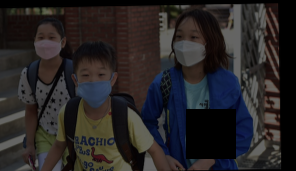with_mask: (75, 64, 114, 108), (174, 26, 207, 68), (34, 30, 62, 60)
